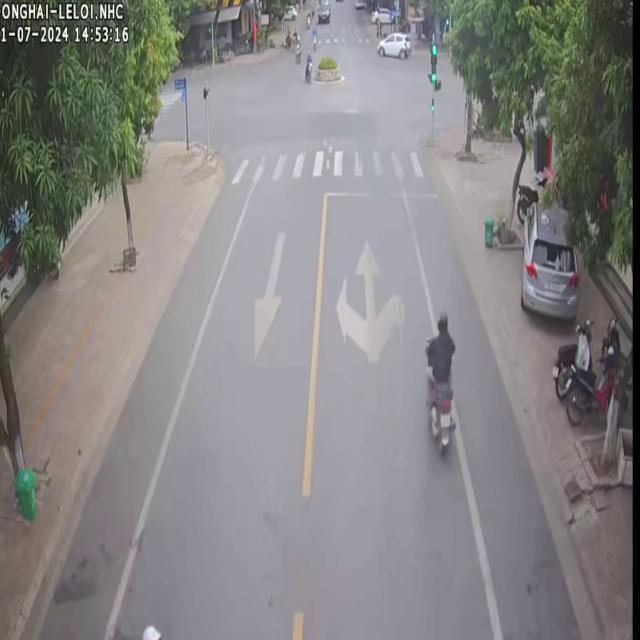car: (519, 200, 577, 318), (376, 31, 409, 58), (316, 0, 329, 22)
green_light: (429, 45, 437, 86)
motobike: (423, 309, 453, 451), (564, 345, 616, 422), (550, 318, 590, 398), (303, 51, 310, 82)
stop_line: (325, 191, 437, 199)
